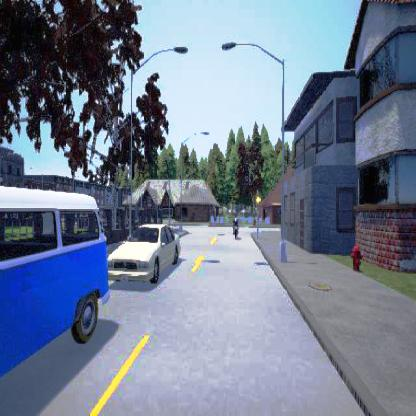motobike: (230, 212, 239, 237)
vehicle: (0, 185, 109, 380), (106, 221, 181, 287)
